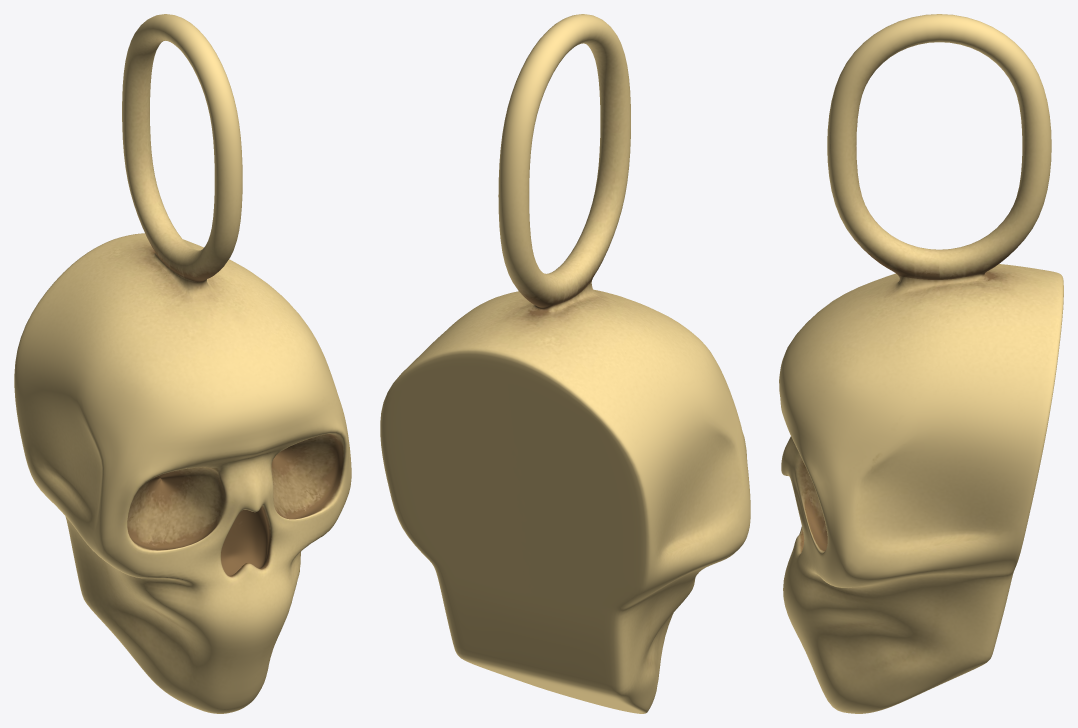
File: skull_gold.glb
The picture shows the model from 3 angles, left to right: view 1: azimuth 30°, elevation 25°; view 2: azimuth 150°, elevation 25°; view 3: azimuth 270°, elevation 25°; orthographic projection. The views are drawn at different scales.
Visible parts, largest first — view 1: skull_low; view 2: skull_low; view 3: skull_low.
Boxes of the visible parts, x1=… form: skull_low: x1=14, y1=14, x2=351, y2=713; skull_low: x1=380, y1=14, x2=750, y2=713; skull_low: x1=779, y1=14, x2=1063, y2=713.
Bounding box in the file's own units: 0.00561 × 0.0141 × 0.00527.
1 material, 1 textured.
